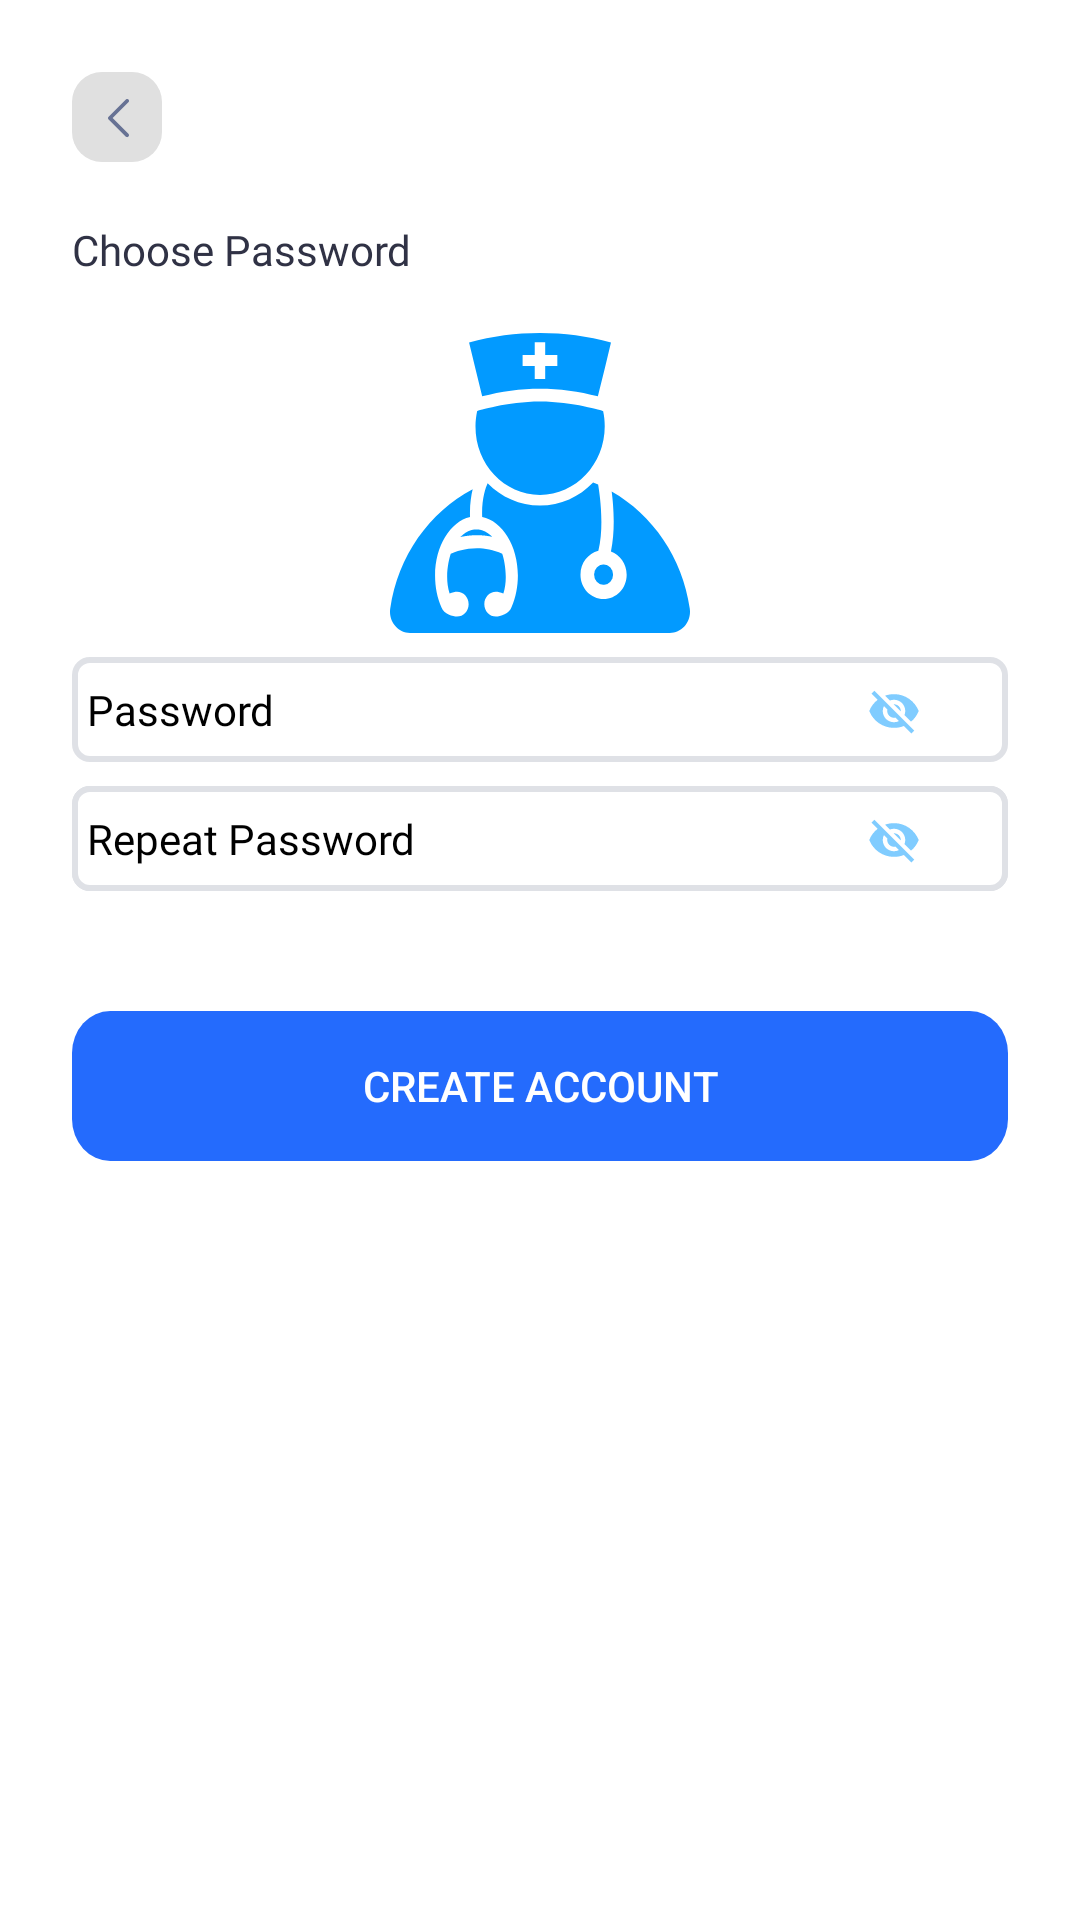

Screen size 1080*1920. Icon name, then its box in pixels as (x1, y1, x2, y2):
back: (72, 72, 162, 162)
doctor: (390, 333, 690, 633)
